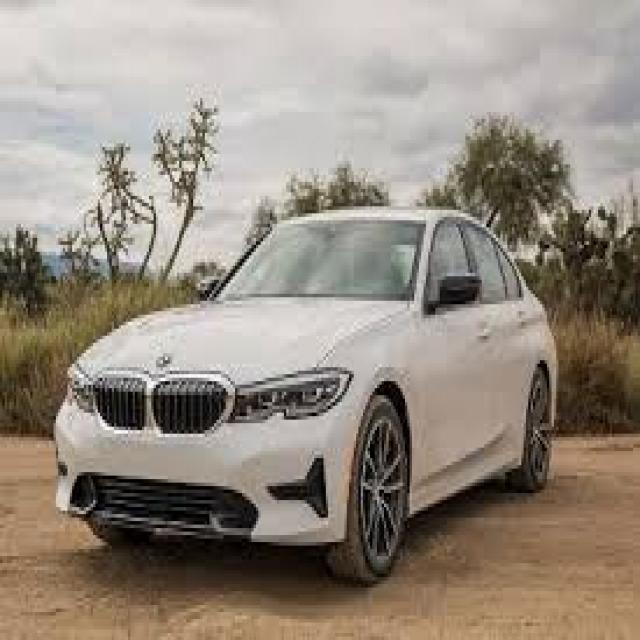car: (51, 199, 568, 577)
